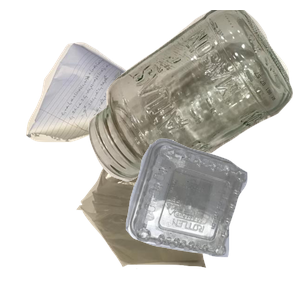glass: (86, 10, 300, 184)
paper: (23, 40, 223, 180)
plastic: (123, 136, 300, 300)
trash: (74, 148, 273, 300)
